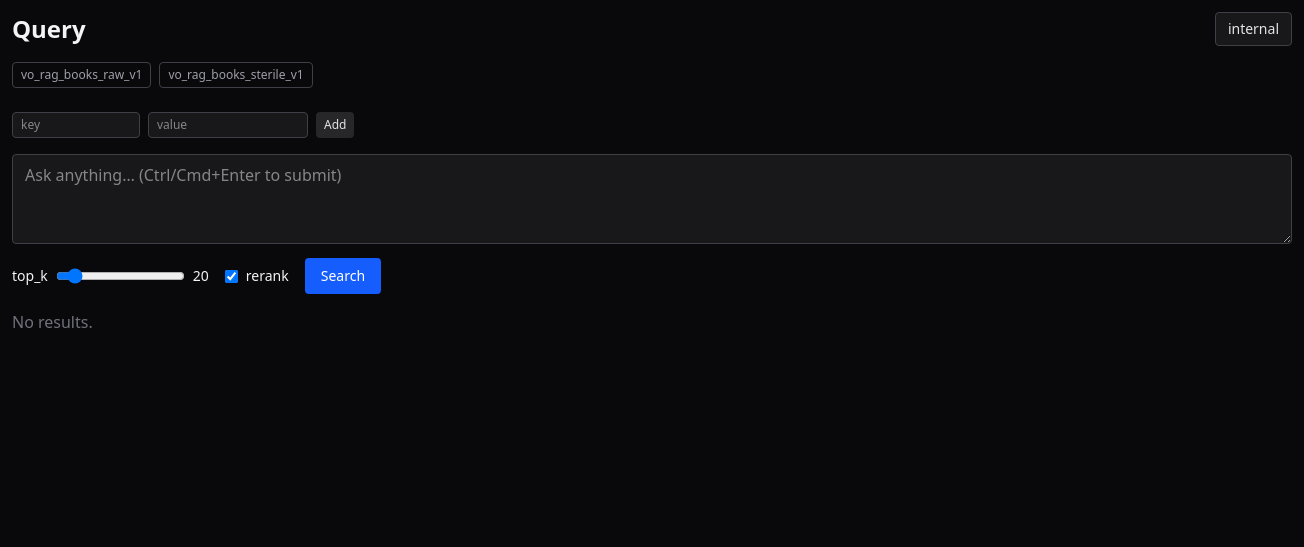
Test case: Query view › renders results from vo-rag payload fields
Type "trail braking" into the text box named "Query" at point(652, 199), box [12,154,1292,244]
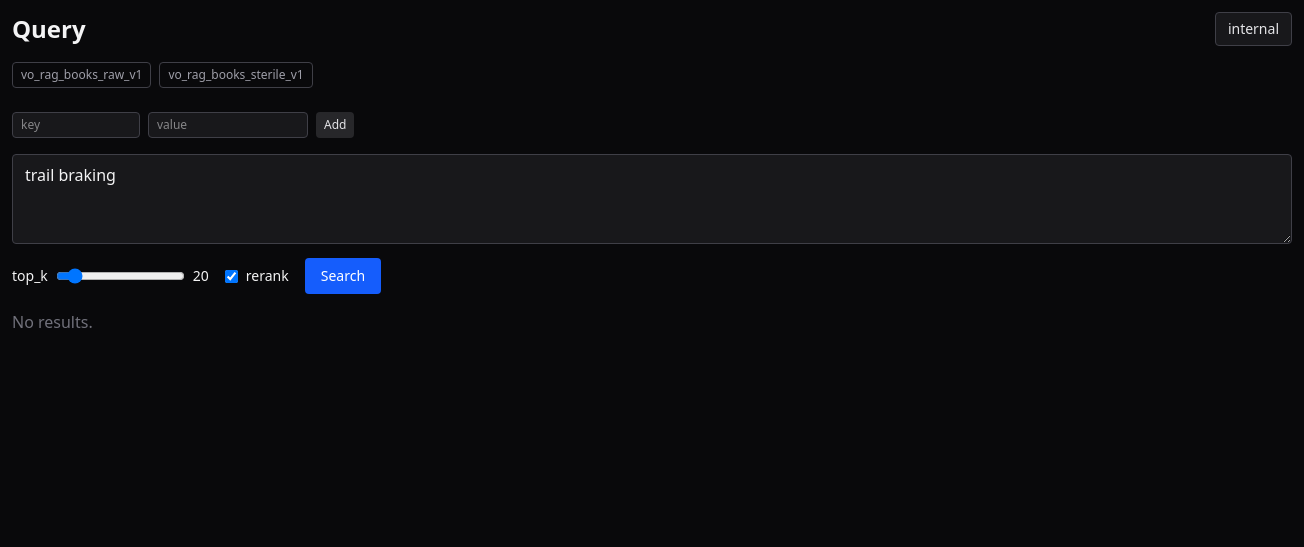
Click the button "Search" at point(343, 276), box [305,258,381,294]
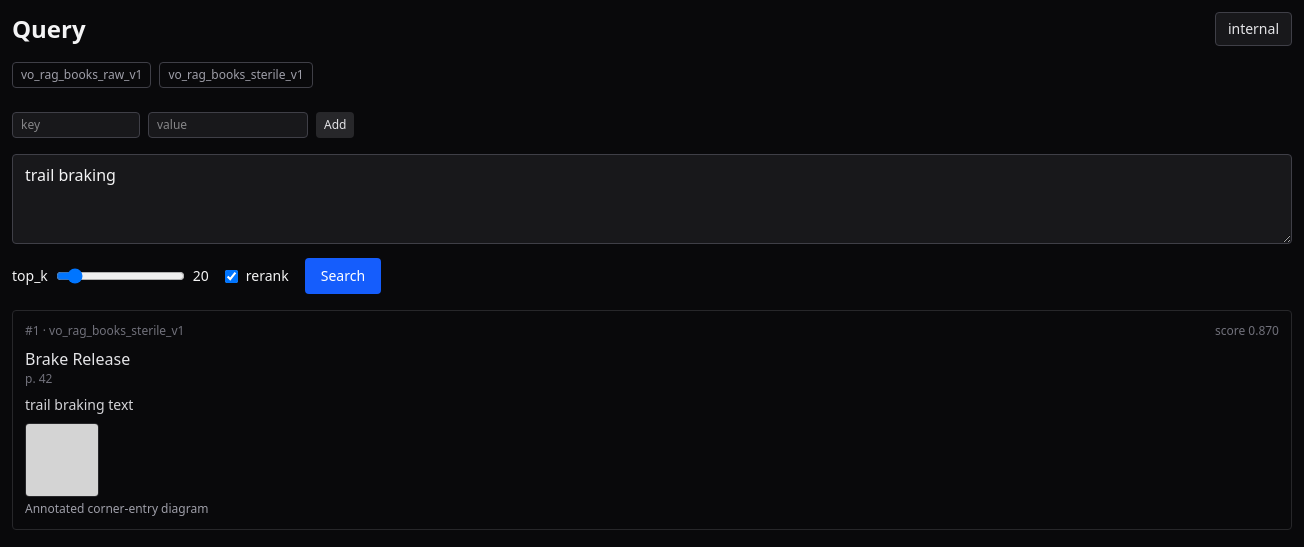
Expected: the text "trail braking text" is shown, [25,395,133,414]
Expected: the text "Brake Release" is shown, [25,348,130,370]
Expected: the text "p. 42" is shown, [25,370,52,387]
